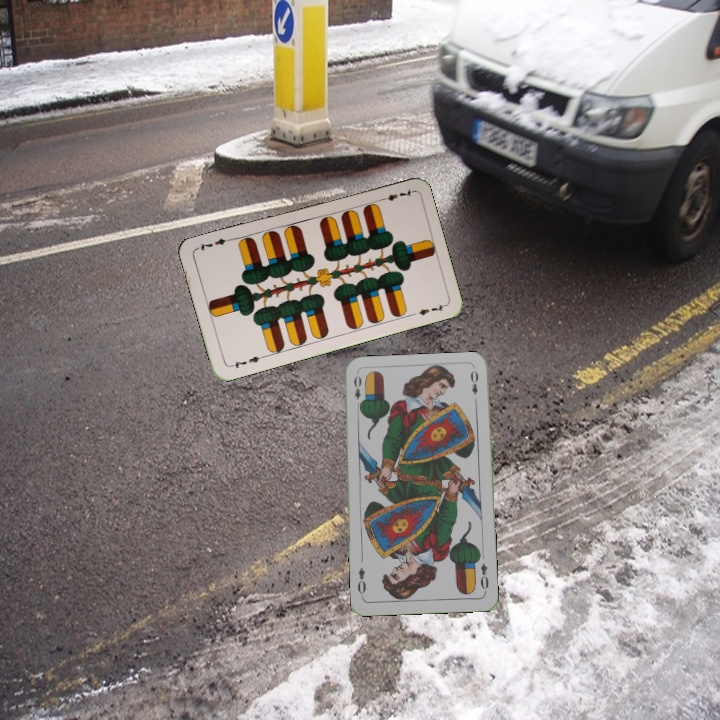E7: (226, 352, 266, 371), (375, 185, 415, 204)
EO: (350, 371, 365, 411), (477, 559, 491, 595)
